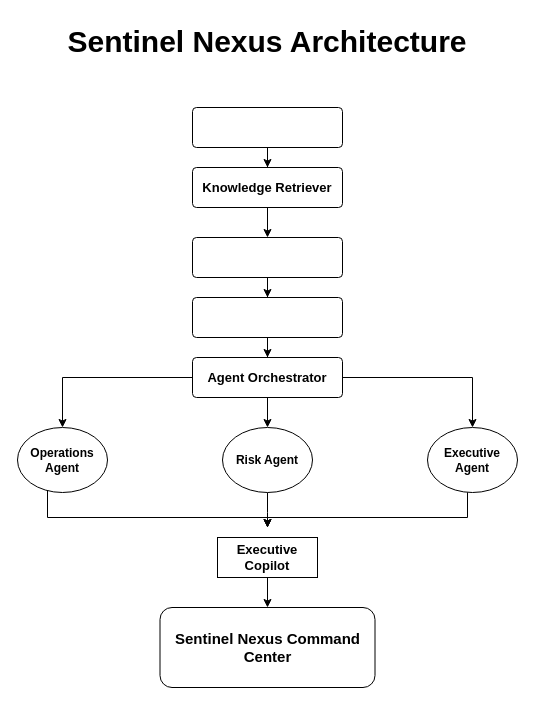
Some shapes in this 535 by 705 pixel diagram are drawn without their labels. Here are the shapes that lost their labels. From the top down, the box of each, then its label:
(192, 106, 342, 148): Enterprise Documents
(192, 236, 342, 278): Semantic Retriever
(192, 296, 342, 338): Context Builder
